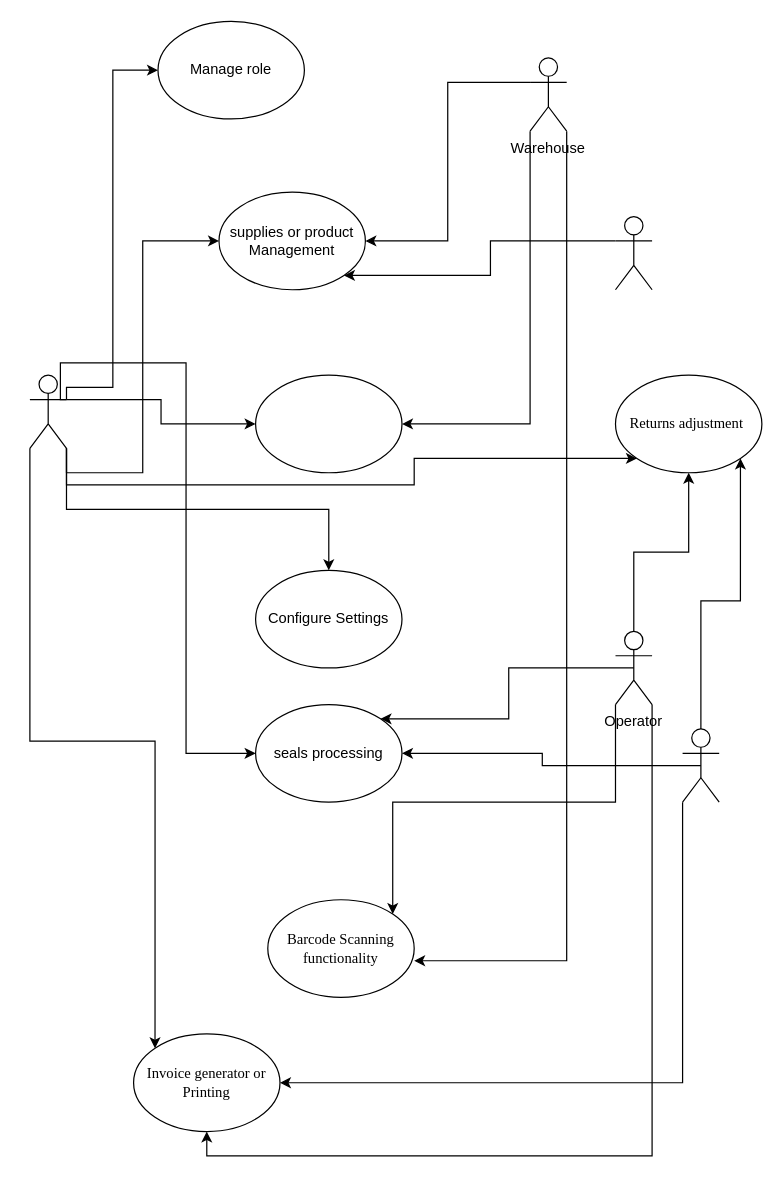
This 783x1187 diagram has some shape labels left out. Each missing label, with the centre of its shape:
Admin: pixel 47 411
Client: pixel 700 765
Inventory handling: pixel 328 423
Supplier: pixel 633 252
